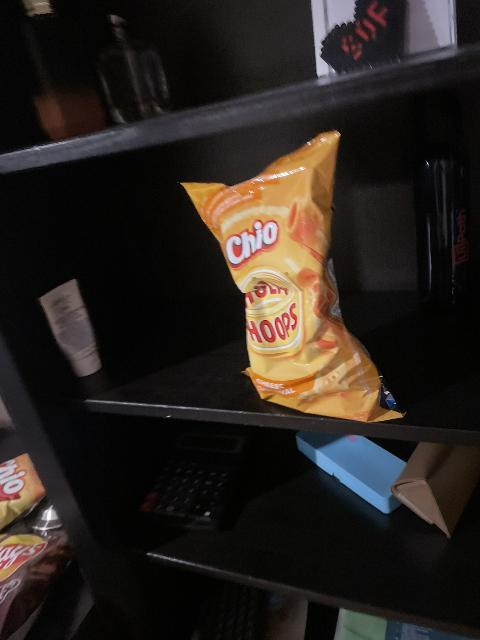Chio Cascaval 125g: (0, 453, 46, 535)
Chio Hula Hoops Cheese 70g: (182, 131, 402, 415)
Lays Beef Grilled Ribs 125g: (1, 525, 71, 638)
